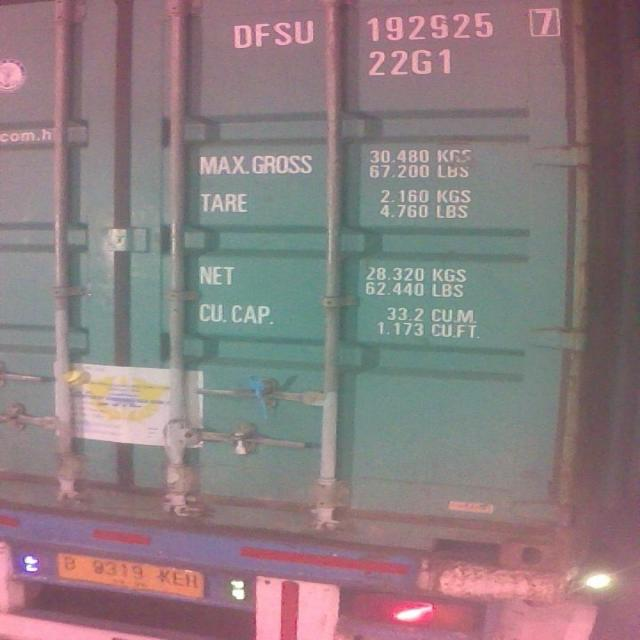seal: (244, 370, 278, 421), (228, 426, 253, 456)
